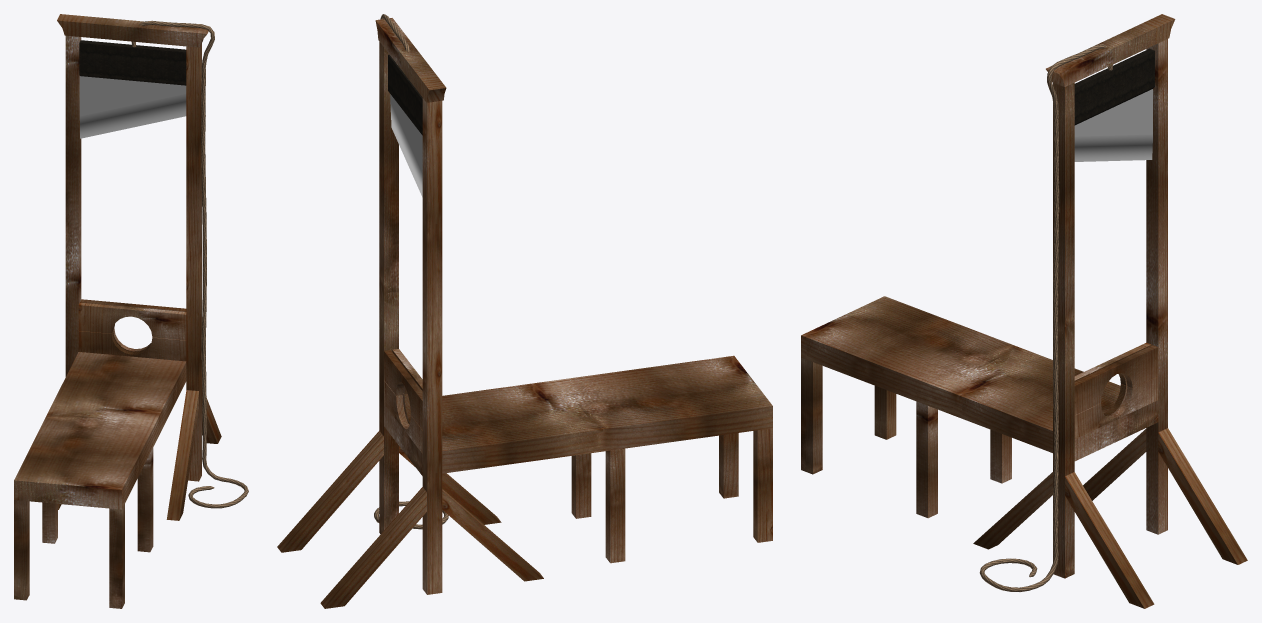
Rendered from Guillotine.fbx.
3 renders of one model, left to right at view 1: azimuth 30°, elevation 25°; view 2: azimuth 150°, elevation 25°; view 3: azimuth 270°, elevation 25°, orthographic. The views are drawn at different scales.
Parts seen in each view (by area): view 1: polySurface1971; view 2: polySurface1971; view 3: polySurface1971.
Boxes of the visible parts, x1=… form: polySurface1971: x1=14, y1=14, x2=248, y2=608; polySurface1971: x1=277, y1=14, x2=772, y2=608; polySurface1971: x1=801, y1=14, x2=1247, y2=608.
Size of the model in its own units: 3.21 by 4.34 by 3.4.
5 materials, 4 textured.
